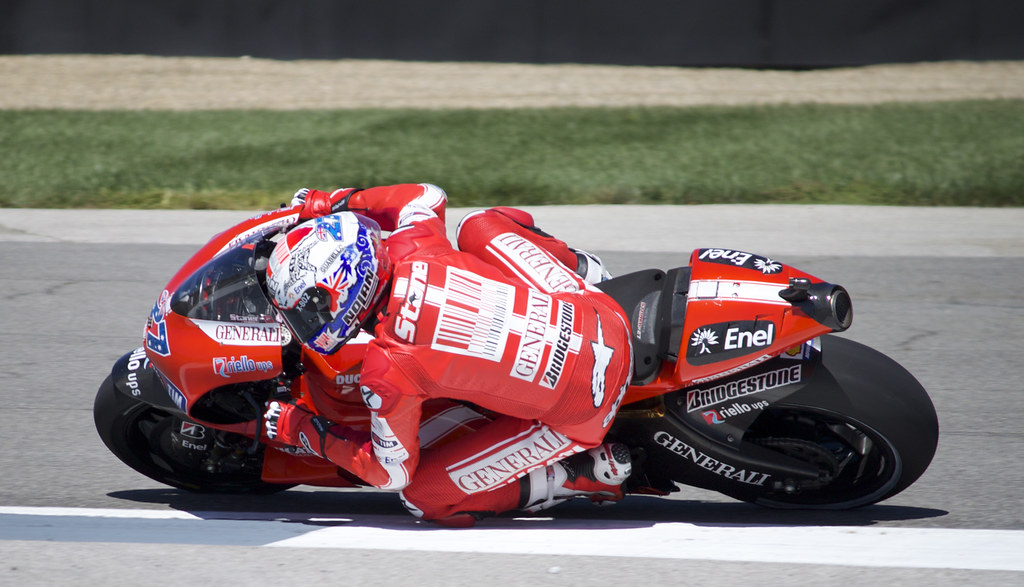helmet: (262, 211, 387, 361)
